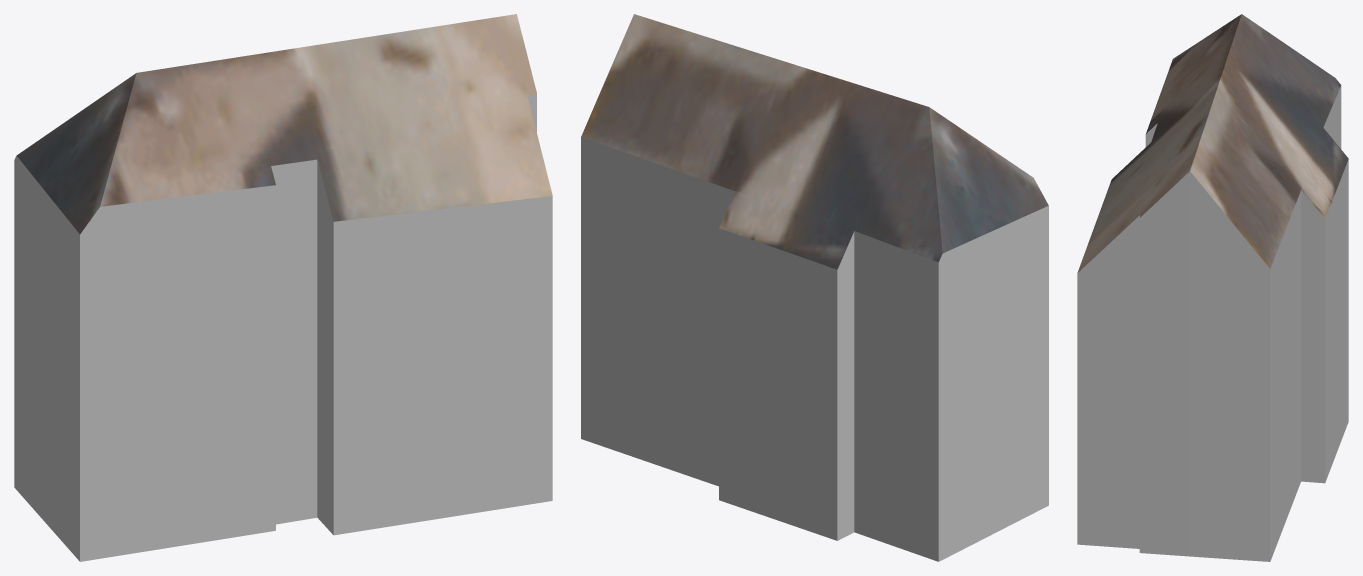
Rendered from DEBW_0010007TxbM.gltf.
The picture shows the model from 3 angles, left to right: view 1: azimuth 30°, elevation 25°; view 2: azimuth 150°, elevation 25°; view 3: azimuth 270°, elevation 25°; orthographic projection. The views are drawn at different scales.
Visible parts, largest first — view 1: Z_UP; view 2: Z_UP; view 3: Z_UP.
Boxes of the visible parts, x1,y1,x2,y2 form: Z_UP: (14,14,552,561); Z_UP: (581,14,1048,561); Z_UP: (1077,14,1348,561).
Size of the model in its own units: 23.27 by 21.36 by 13.47.
2 materials, 1 textured.
